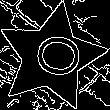O_W: (22, 31, 81, 83)
